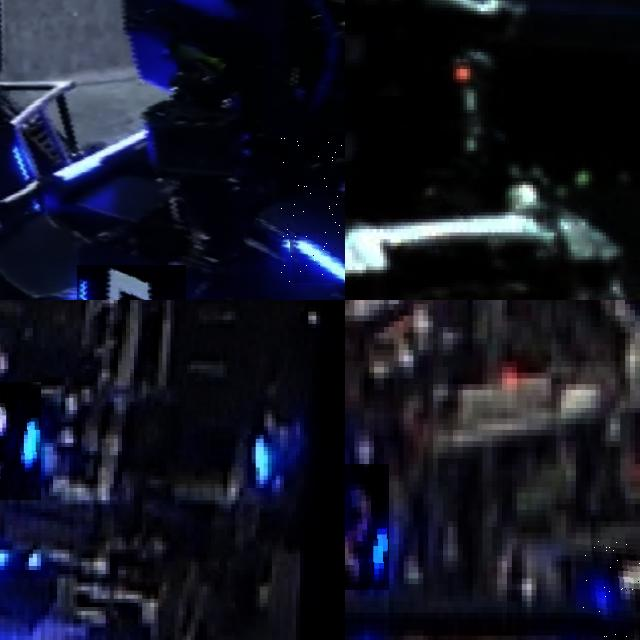B2: (576, 538, 640, 640), (345, 464, 389, 589), (0, 381, 41, 500)
B5: (279, 132, 345, 283), (76, 265, 186, 300)
